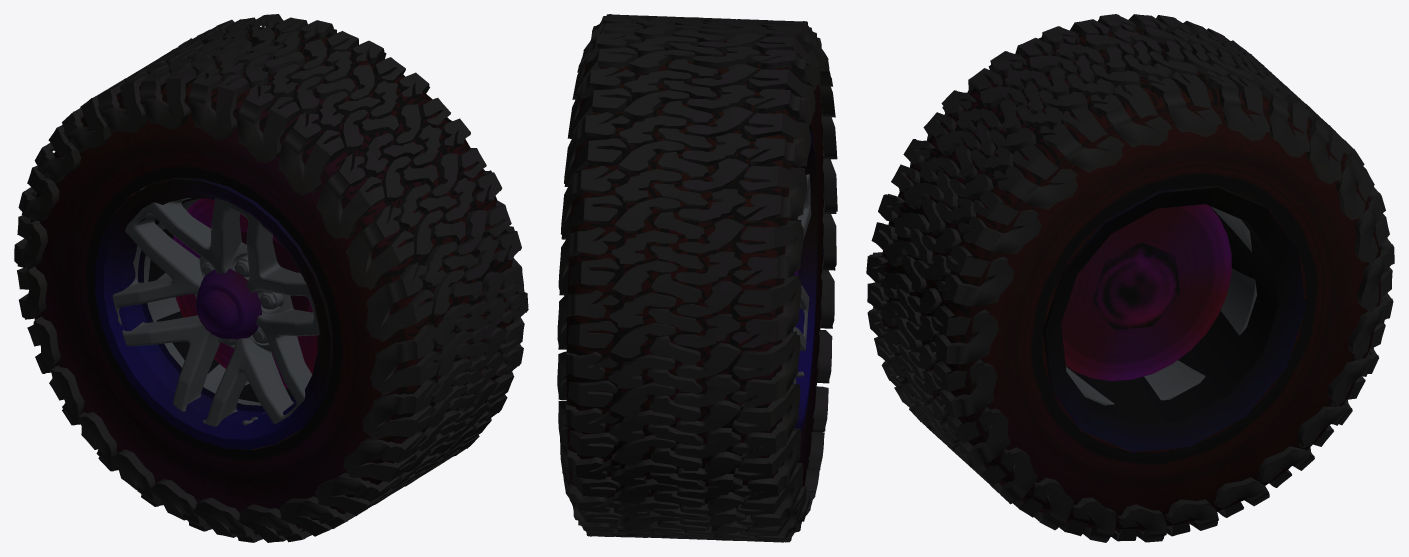
Rendered from raptor.gltf.
3 views of the same model, side by side, from view 1: azimuth 30°, elevation 25°; view 2: azimuth 150°, elevation 25°; view 3: azimuth 270°, elevation 25° (orthographic). The views are drawn at different scales.
Visible parts, largest first — view 1: wheel_fl; view 2: wheel_fl; view 3: wheel_fl.
Part boxes in pixels (bbox=[...]): wheel_fl: bbox=[14, 14, 528, 542]; wheel_fl: bbox=[557, 14, 837, 542]; wheel_fl: bbox=[866, 14, 1394, 542].
Size of the model in its own units: 0.7499 by 0.9554 by 1.02.
Materials: 1 (1 with a texture image).
